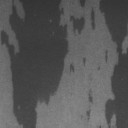red iron: (0, 0, 128, 128), (80, 110, 92, 121), (88, 90, 94, 103), (78, 0, 86, 8), (70, 62, 75, 72), (104, 50, 108, 62), (82, 58, 85, 66)
